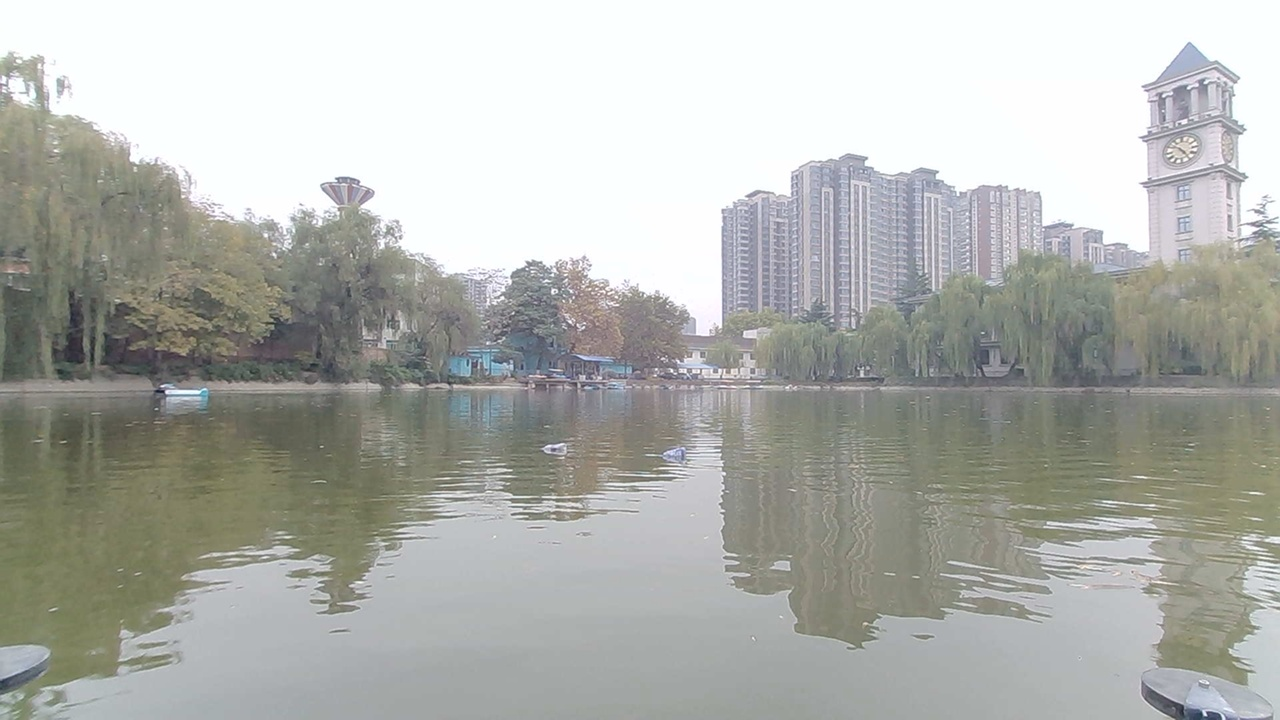bottle: (538, 431, 577, 457), (662, 447, 695, 464)
